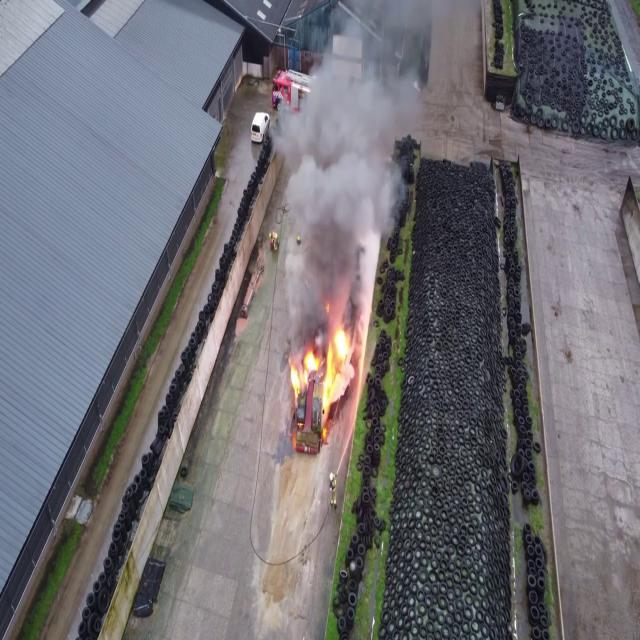Fire: (288, 312, 358, 418)
Smoke: (270, 6, 422, 318)
